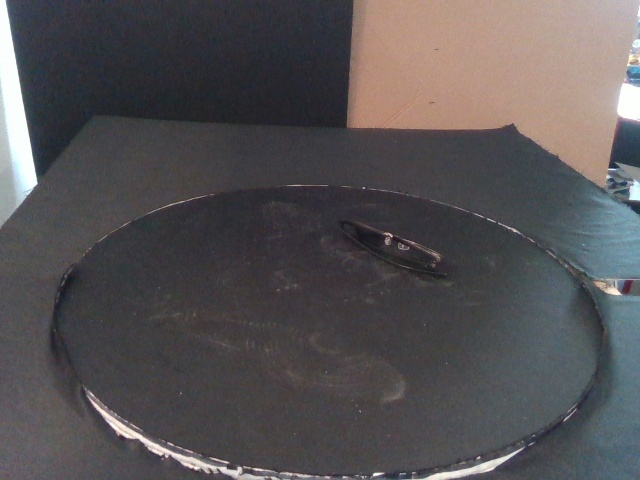glasses: (334, 216, 452, 280)
